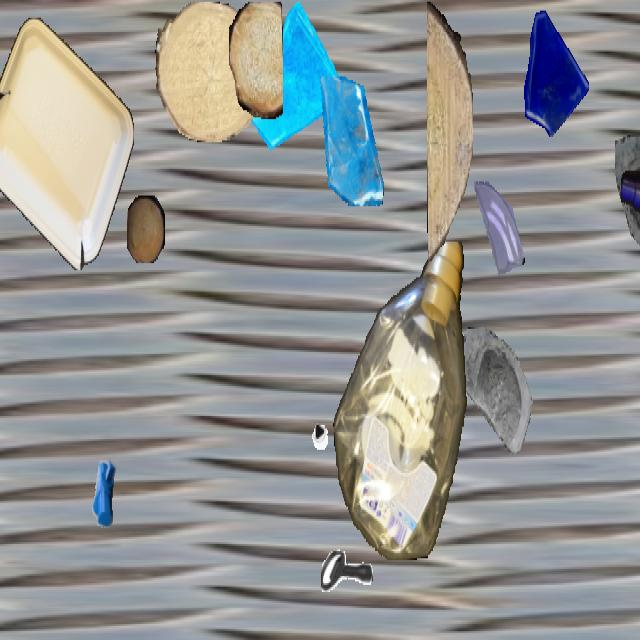glass: (252, 2, 342, 162), (461, 323, 545, 473), (515, 2, 591, 137), (314, 76, 386, 205), (469, 180, 527, 282), (613, 135, 640, 288)
metal: (275, 354, 333, 457), (74, 438, 132, 540), (321, 528, 373, 620)
plastic: (333, 242, 469, 558), (0, 18, 134, 270), (621, 160, 640, 306)
wood: (155, 2, 261, 140), (427, 2, 473, 261), (229, 2, 283, 119), (127, 196, 165, 263)
